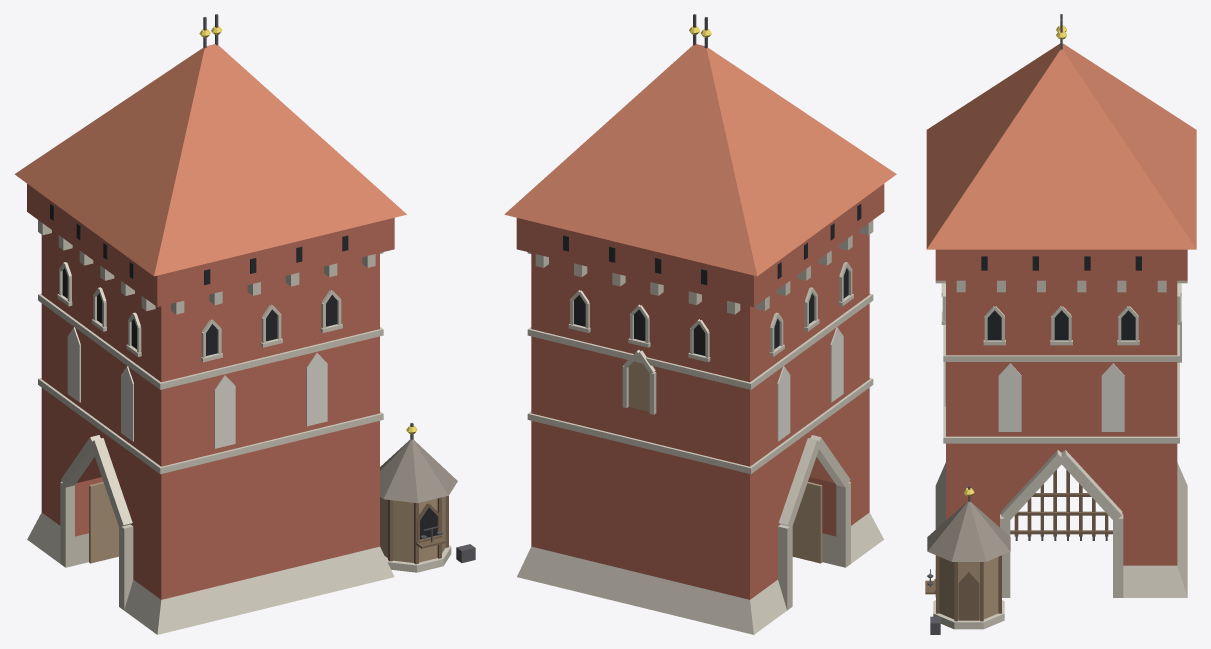
File: gate_grodzka.glb
3 renders of one model, left to right at view 1: azimuth 30°, elevation 25°; view 2: azimuth 150°, elevation 25°; view 3: azimuth 270°, elevation 25°, orthographic. The views are drawn at different scales.
Visible parts, largest first — view 1: GateGrodzka; view 2: GateGrodzka; view 3: GateGrodzka.
Boxes of the visible parts, x1=… form: GateGrodzka: x1=14, y1=14, x2=475, y2=634; GateGrodzka: x1=504, y1=14, x2=896, y2=634; GateGrodzka: x1=925, y1=14, x2=1196, y2=634.
Size of the model in its own units: 14.05 by 22.5 by 10.55.
